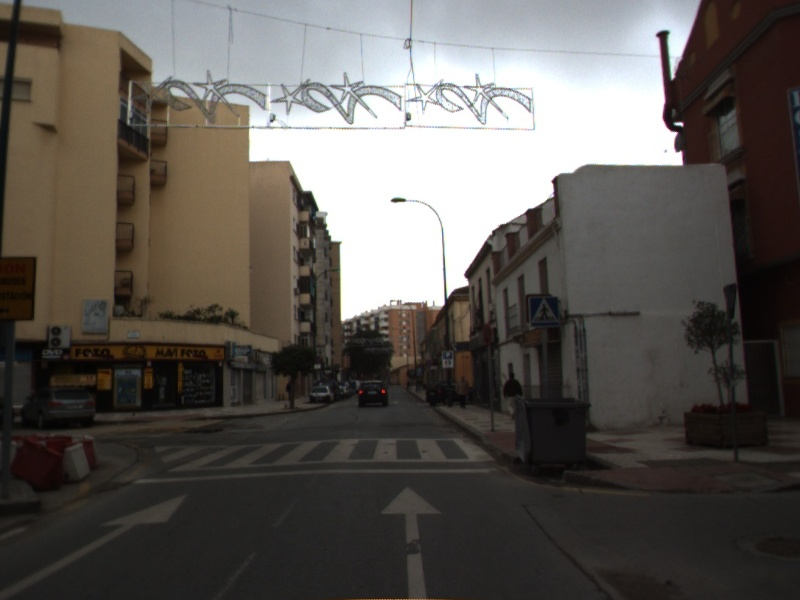STRAIGHT: (1, 491, 190, 600), (378, 483, 444, 600)
